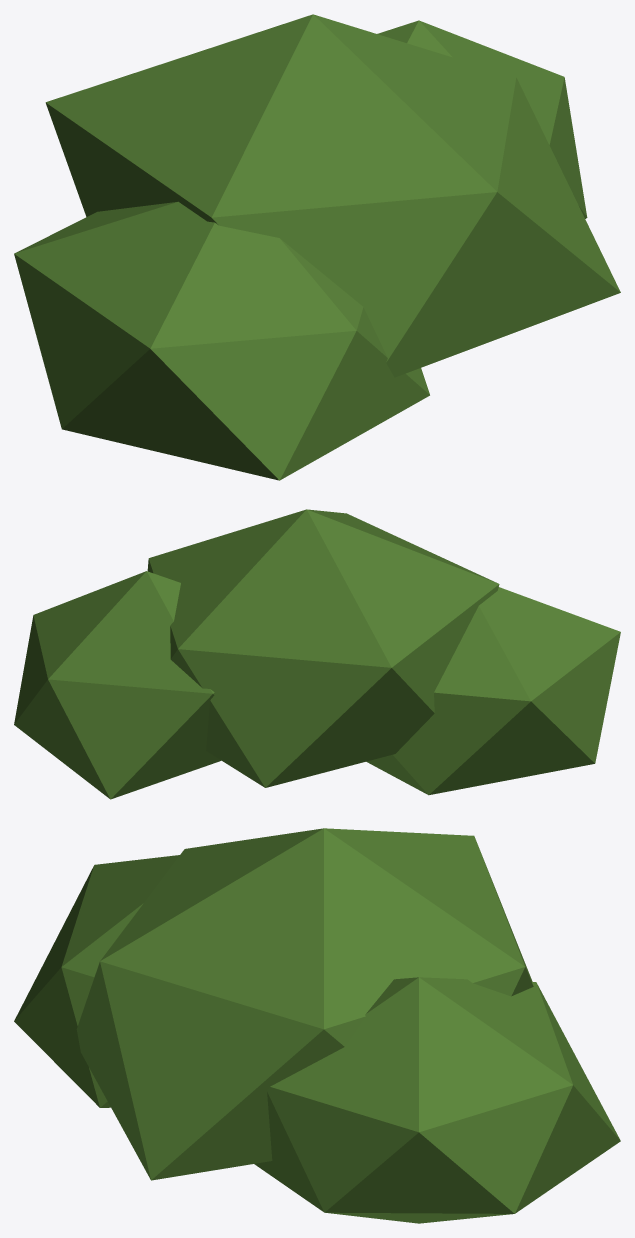
File: buisson.glb
The picture shows the model from 3 angles, top to bottom: view 1: azimuth 30°, elevation 25°; view 2: azimuth 150°, elevation 25°; view 3: azimuth 270°, elevation 25°; orthographic projection. The views are drawn at different scales.
Parts seen in each view (by area): view 1: buisson; view 2: buisson; view 3: buisson.
Boxes of the visible parts, x1=… form: buisson: x1=14, y1=14, x2=620, y2=480; buisson: x1=14, y1=509, x2=620, y2=799; buisson: x1=14, y1=828, x2=620, y2=1223.
Size of the model in its own units: 1.59 by 0.8607 by 1.44.
Materials: 1 (1 with a texture image).
